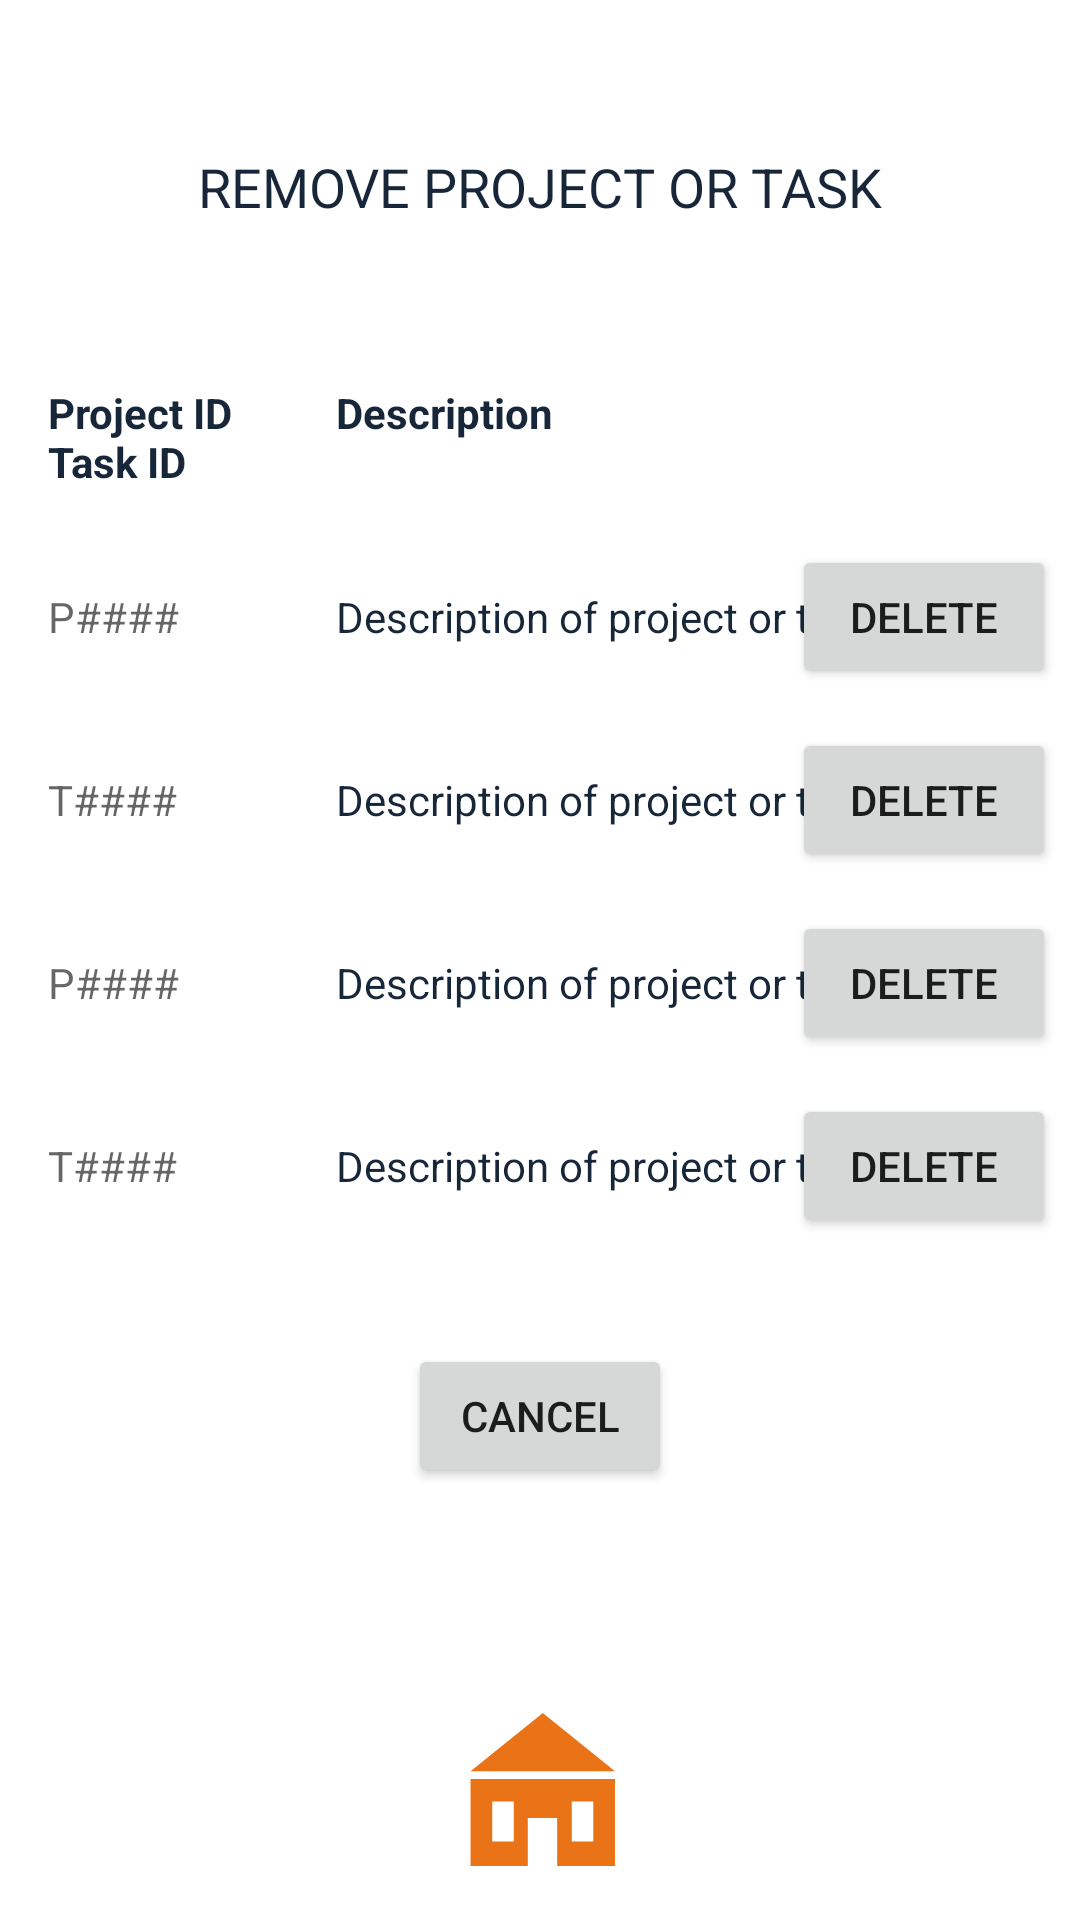

Locate icon controls on the screen. Image size 1080px×1920px, boxes as (x1, y1, x2, y2).
home: (470, 1713, 615, 1866)
